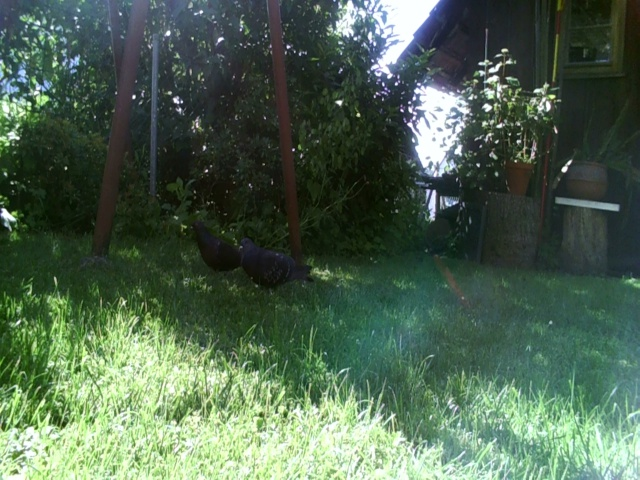Pigeon: (235, 237, 324, 296), (184, 220, 241, 272)
